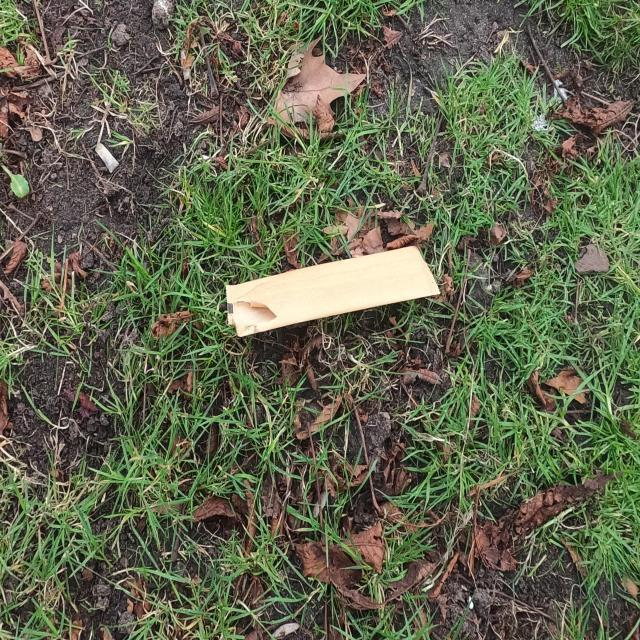Plastic: (224, 244, 440, 338)
